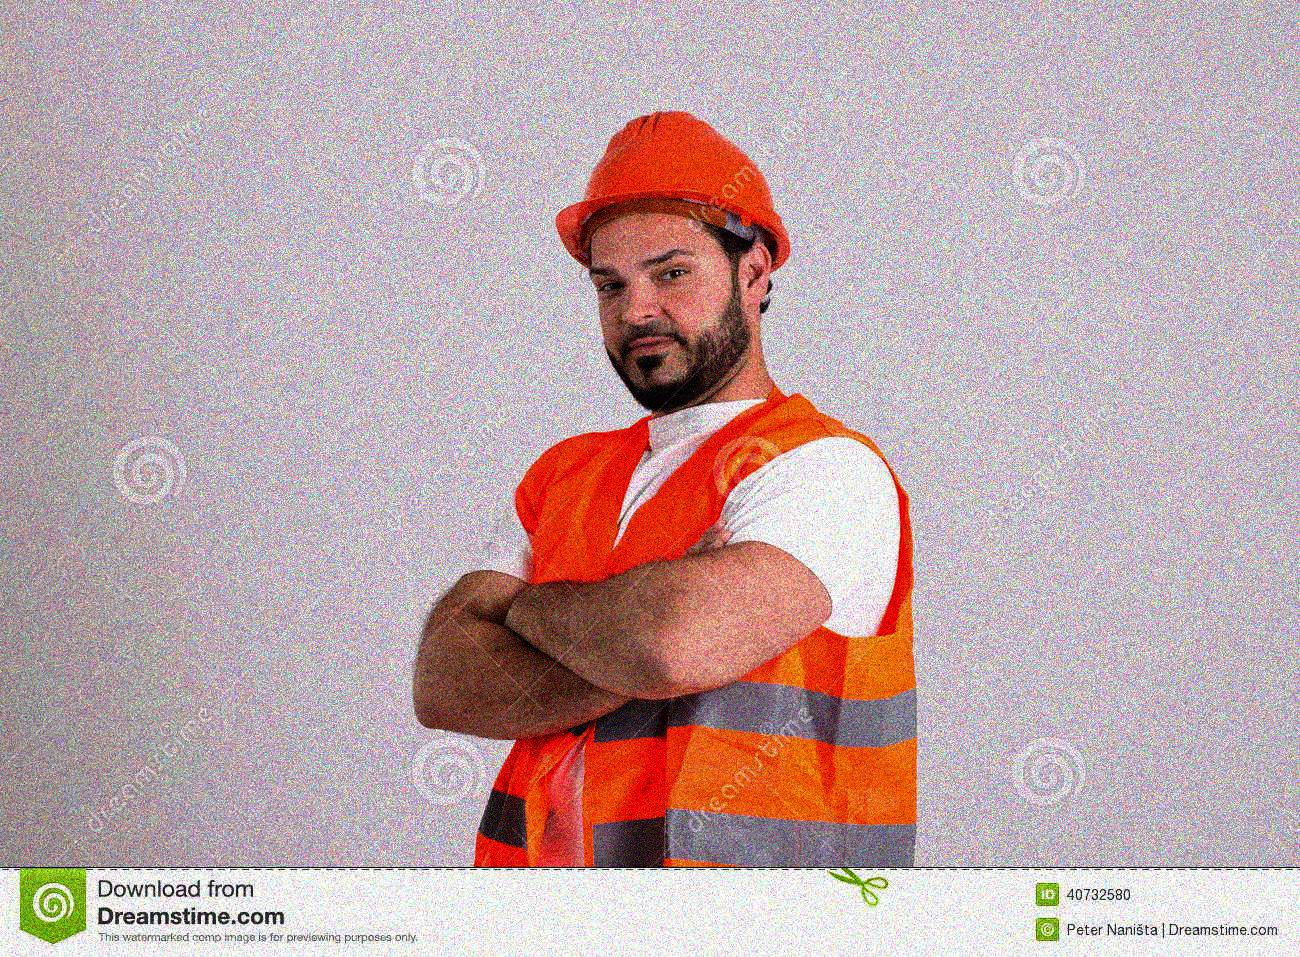helmet: (554, 108, 795, 402)
